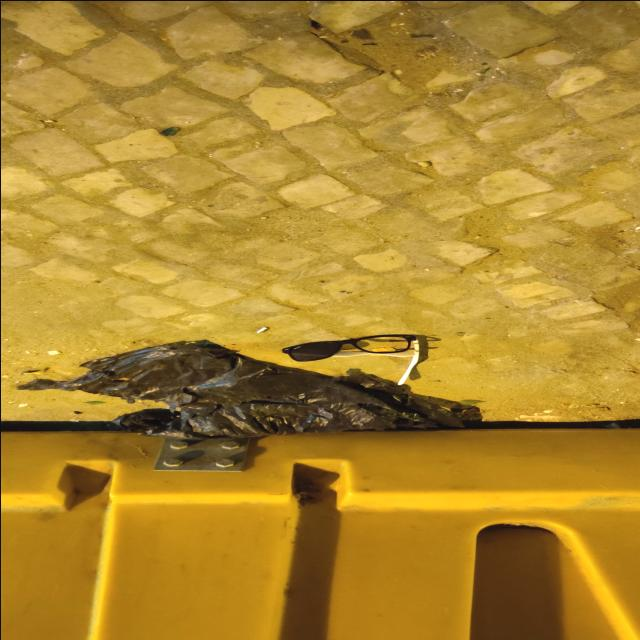Garbage bag: (16, 339, 464, 438), (103, 407, 178, 429)
Other plastic bottle: (280, 334, 418, 384)
Unlabeled litter: (157, 126, 173, 137), (255, 325, 269, 332)
